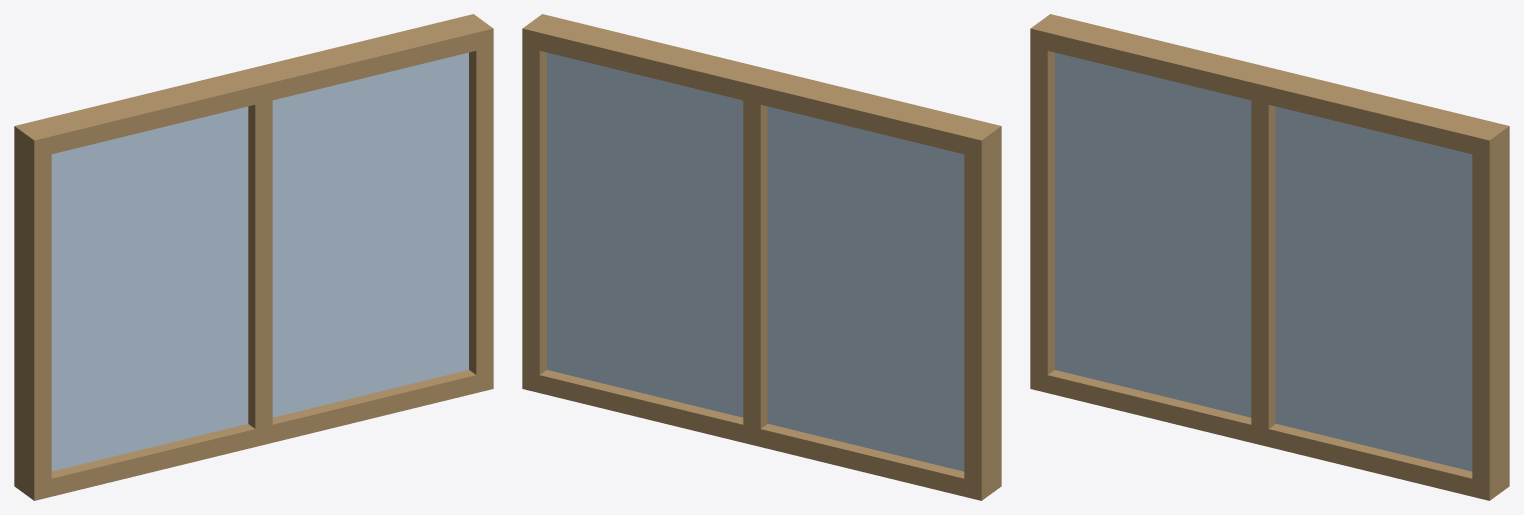
3 renders of one model, left to right at view 1: azimuth 30°, elevation 25°; view 2: azimuth 150°, elevation 25°; view 3: azimuth 330°, elevation 25°, orthographic.
Parts seen in each view (by area): view 1: window_glass, frame; view 2: window_glass, frame; view 3: window_glass, frame.
Boxes of the visible parts, bbox=[...] form: window_glass: bbox=[51, 52, 468, 471]; frame: bbox=[14, 14, 493, 500]; window_glass: bbox=[547, 52, 964, 471]; frame: bbox=[522, 14, 1001, 500]; window_glass: bbox=[1055, 52, 1472, 471]; frame: bbox=[1030, 14, 1509, 500].
Bounding box in the file's own units: 1.6 × 1.2 × 0.12.
Materials: 2 (2 with a texture image).
